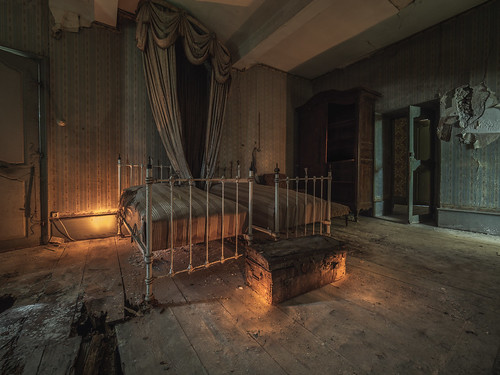bed: (120, 181, 247, 260), (214, 171, 341, 250)
door: (383, 103, 435, 232)
